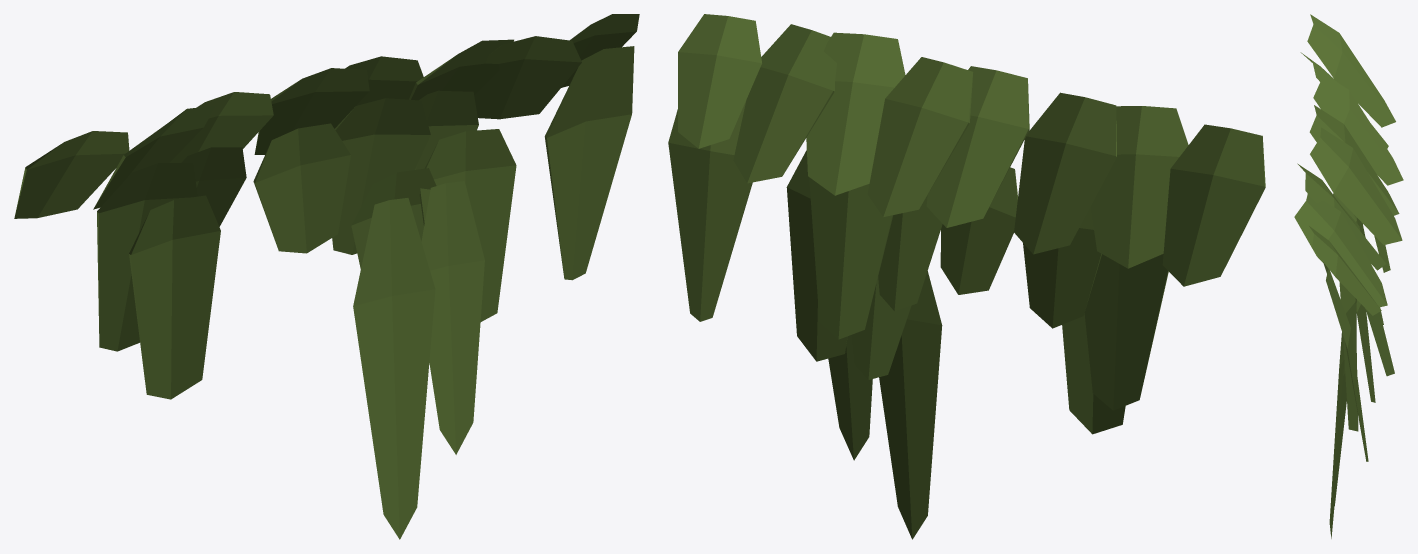
File: LightVegetationDecorationLargeDrapingleaves1.fbx
3 views of the same model, side by side, from view 1: azimuth 30°, elevation 25°; view 2: azimuth 150°, elevation 25°; view 3: azimuth 270°, elevation 25° (orthographic). The views are drawn at different scales.
Parts seen in each view (by area): view 1: LightVegetationDecorationLargeDrapingLeaves1; view 2: LightVegetationDecorationLargeDrapingLeaves1; view 3: LightVegetationDecorationLargeDrapingLeaves1.
Boxes of the visible parts, box(x1,y1,x2,y2) form: LightVegetationDecorationLargeDrapingLeaves1: box(14, 14, 639, 539); LightVegetationDecorationLargeDrapingLeaves1: box(668, 14, 1265, 539); LightVegetationDecorationLargeDrapingLeaves1: box(1294, 14, 1403, 538).
Bounding box in the file's own units: 9.17 × 7.13 × 1.79.
